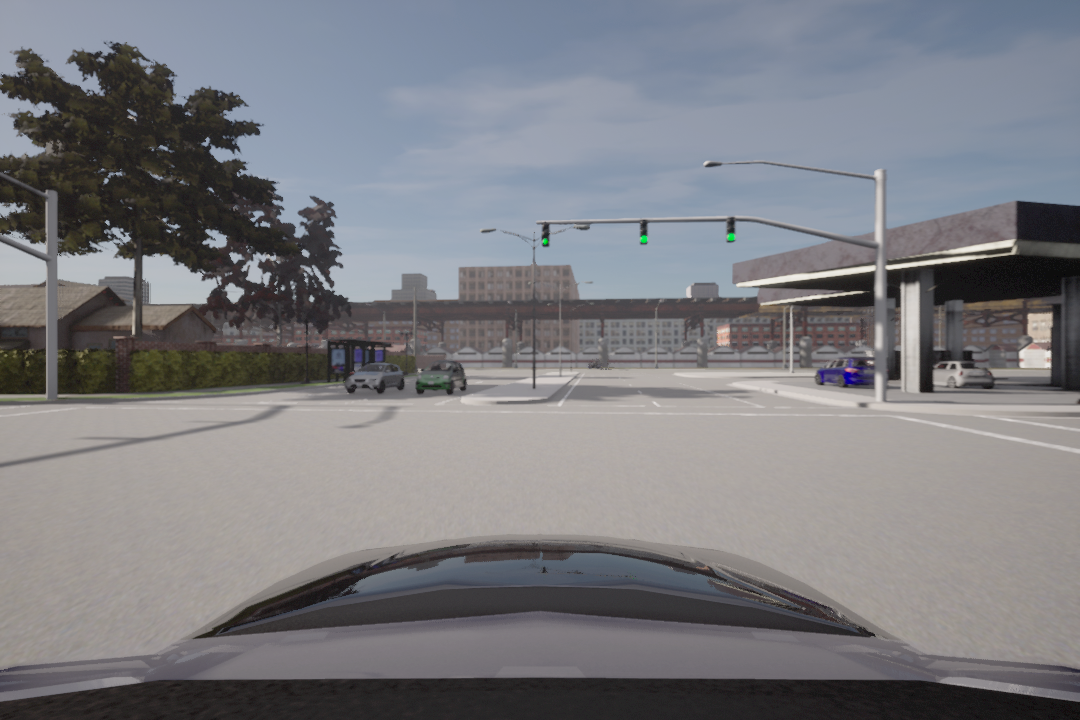TrafficLight: (540, 221, 551, 248), (726, 216, 737, 243), (639, 219, 648, 247)
